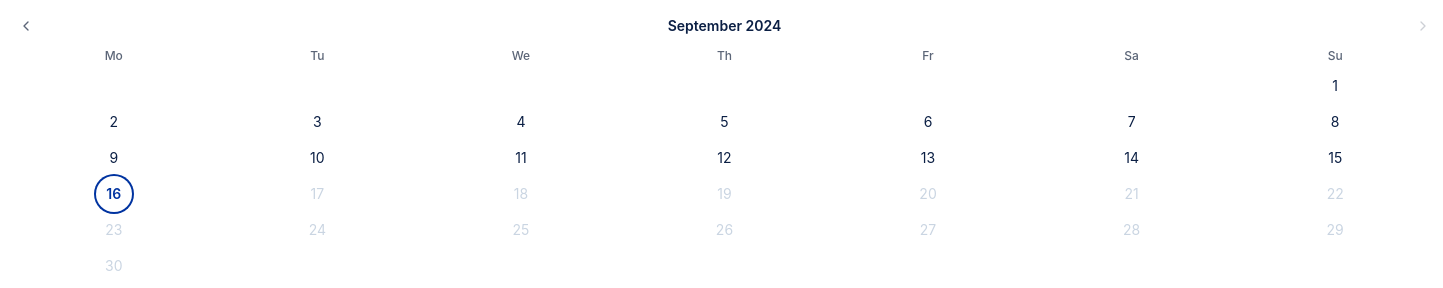
Test: RangeCalendar › moves between months with the buttons
What coordinates should you click on to do the following:
click the button named "Previous month"
I would click on:
 (26, 26)
Its box is [12,12,40,40].
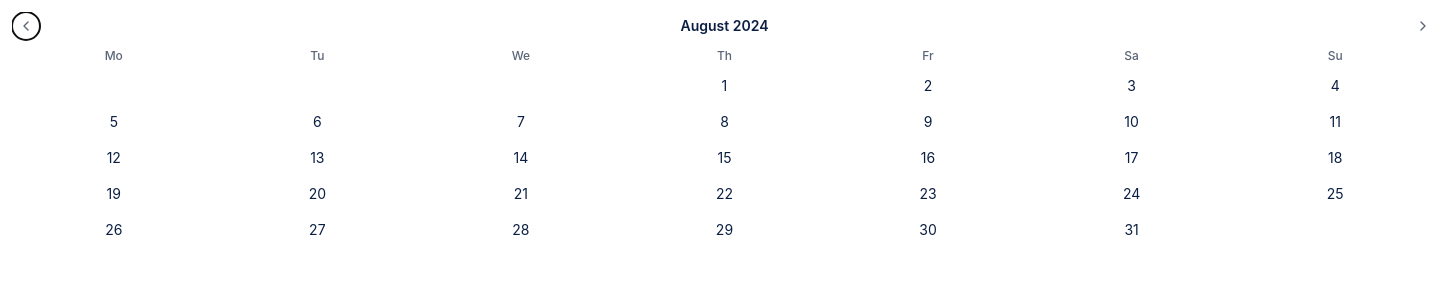
Now the heading reads "August 2024", box [680,17,768,34]
